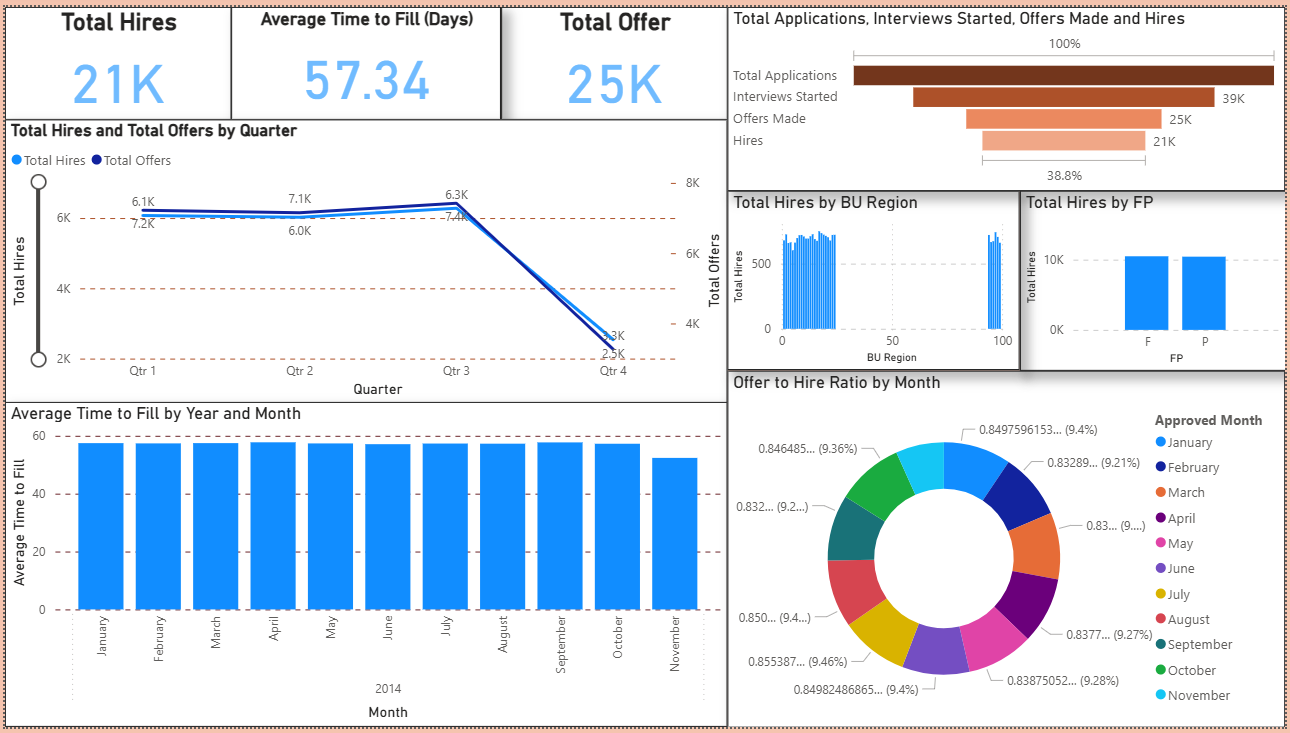

This screenshot's page, from the dashboard's own definition file:
{"tool":"powerbi","page":{"name":"Hiring Data ","canvas":[1280,720],"ordinal":0},"visuals":[{"type":"card","title":"Total Hires","fields":{"Values":["2014.Total Hires"]},"box":[0,0,226.6,112.7],"z":0},{"type":"card","title":"Total Offer ","fields":{"Values":["2014.Total Offers"]},"box":[495.9,0,226.6,112.7],"z":1000},{"type":"card","title":"Average Time to Fill (Days)","fields":{"Values":["2014.Average Time to Fill"]},"box":[226.6,0,269.4,112.7],"z":2000},{"type":"lineChart","fields":{"Category":["2014.Approved.Variation.Date Hierarchy.Quarter"],"Y":["2014.Total Hires"],"Y2":["2014.Total Offers"]},"box":[0,112.7,722.5,284],"z":3000},{"type":"clusteredColumnChart","fields":{"Y":["2014.Average Time to Fill"],"Category":["2014.Approved.Variation.Date Hierarchy.Year","2014.Approved.Variation.Date Hierarchy.Month"]},"box":[0,395.6,722.5,324.6],"z":4000},{"type":"donutChart","fields":{"Y":["2014.Offer to Hire Ratio"],"Category":["2014.Approved.Variation.Date Hierarchy.Month"]},"box":[722.7,363.2,557.6,357.1],"z":5000},{"type":"columnChart","fields":{"Y":["2014.Total Hires"],"Category":["2014.FP"]},"box":[1014.4,183.7,266,180.3],"z":6000},{"type":"columnChart","fields":{"Y":["2014.Total Hires"],"Category":["2014.BU Region"]},"box":[722.5,183.7,291.9,179.2],"z":7000},{"type":"funnel","fields":{"Y":["2014.Total Applications","2014.Interviews Started","2014.Offers Made","2014.Hires"]},"box":[722.5,0,557.9,183.7],"z":8000}]}

Visuals, with their boxes in screenshot pixels (x1, y1, x2, y2), scaled from the page's 1280x720 canvas onto the 1290x733 screenshot:
"Total Hires" card: Rect(0, 0, 228, 115)
"Total Offer " card: Rect(500, 0, 728, 115)
"Average Time to Fill (Days)" card: Rect(228, 0, 500, 115)
lineChart - 2014.Approved.Variation.Date Hierarchy.Quarter x 2014.Total Hires: Rect(0, 115, 728, 404)
clusteredColumnChart - 2014.Average Time to Fill x 2014.Approved.Variation.Date Hierarchy.Year: Rect(0, 403, 728, 732)
donutChart - 2014.Offer to Hire Ratio x 2014.Approved.Variation.Date Hierarchy.Month: Rect(728, 370, 1289, 732)
columnChart - 2014.Total Hires x 2014.FP: Rect(1022, 187, 1289, 371)
columnChart - 2014.Total Hires x 2014.BU Region: Rect(728, 187, 1022, 369)
funnel - 2014.Total Applications x 2014.Interviews Started: Rect(728, 0, 1289, 187)
